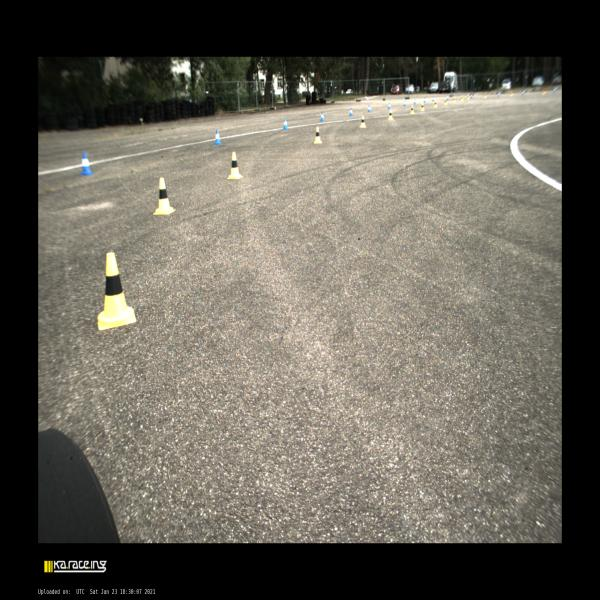blue_cone: (80, 153, 94, 175), (214, 129, 222, 145), (283, 118, 288, 130), (320, 112, 325, 122), (388, 102, 392, 110), (350, 107, 353, 116), (368, 105, 371, 112), (413, 98, 416, 105), (403, 100, 406, 106), (432, 96, 435, 101), (446, 96, 449, 100), (424, 97, 426, 102), (498, 92, 500, 97), (471, 94, 472, 98)
yellow_cone: (97, 252, 136, 331), (153, 177, 176, 215), (227, 151, 242, 180), (314, 126, 322, 144), (359, 115, 367, 128), (388, 110, 394, 120), (420, 102, 425, 111), (433, 100, 438, 108), (410, 105, 414, 114), (444, 98, 447, 105), (453, 96, 456, 103), (484, 92, 487, 99), (461, 95, 464, 101), (467, 94, 470, 100), (510, 90, 513, 96)
